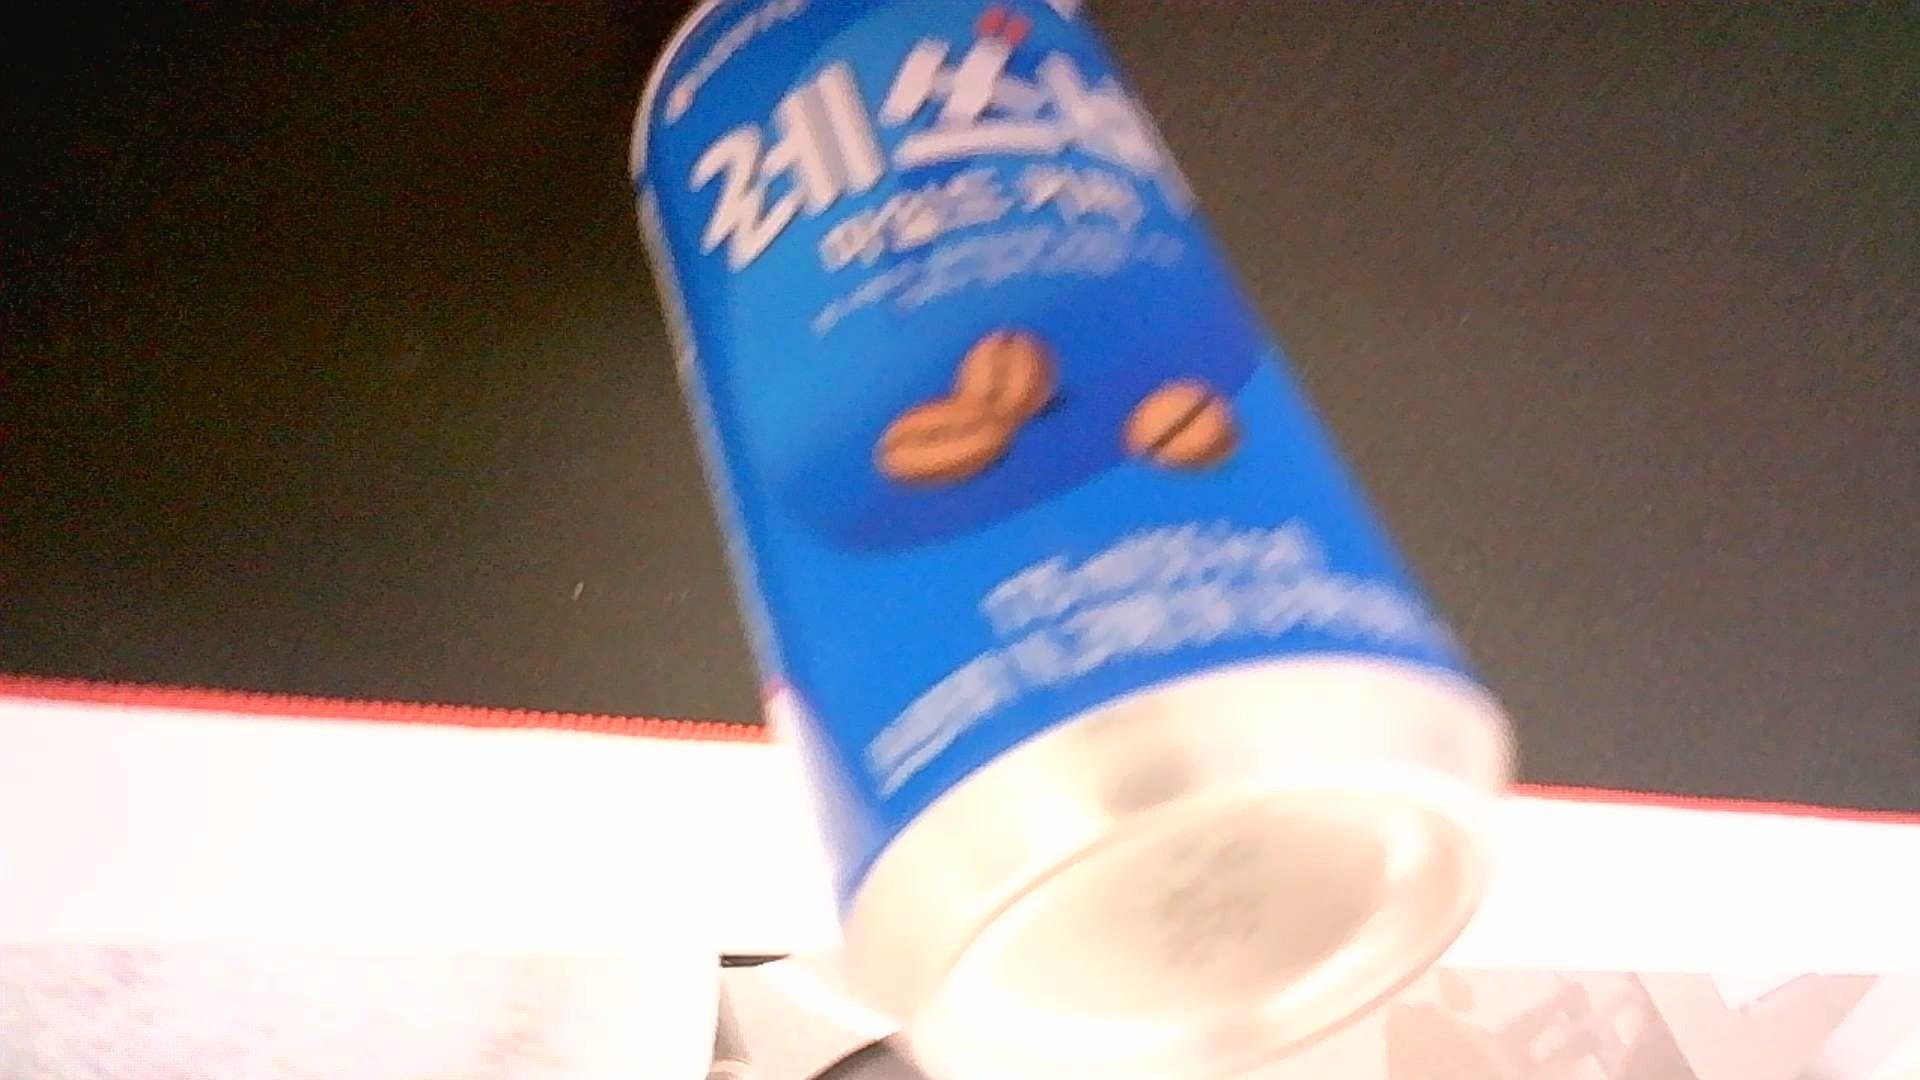letsbe: (630, 0, 1516, 1080)
